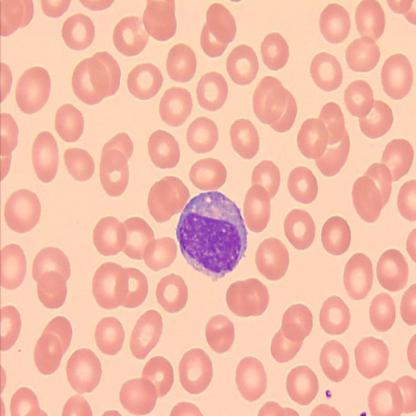Monocyte: (174, 188, 249, 283)
